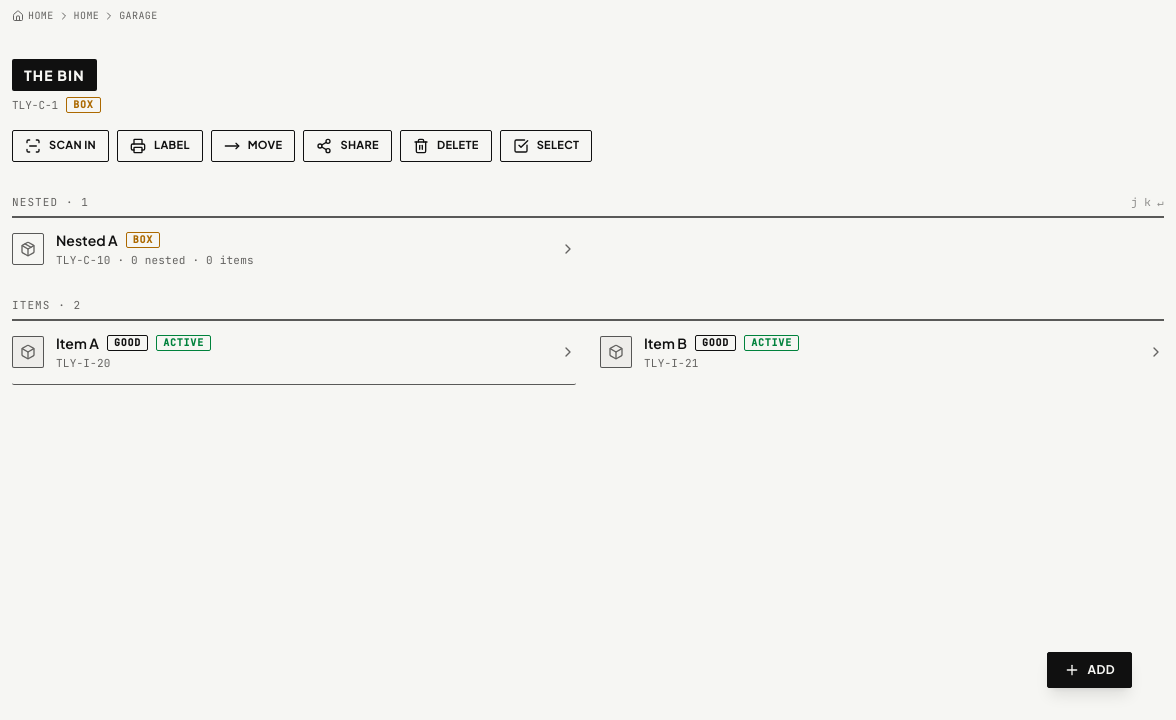
#288: the landing target is a non-interactive tabIndex={-1} container, not Cancel or a row checkbox — either is a real <button> that would swallow the very next
Click the button "Select" at [546, 146], box [500, 130, 592, 162]
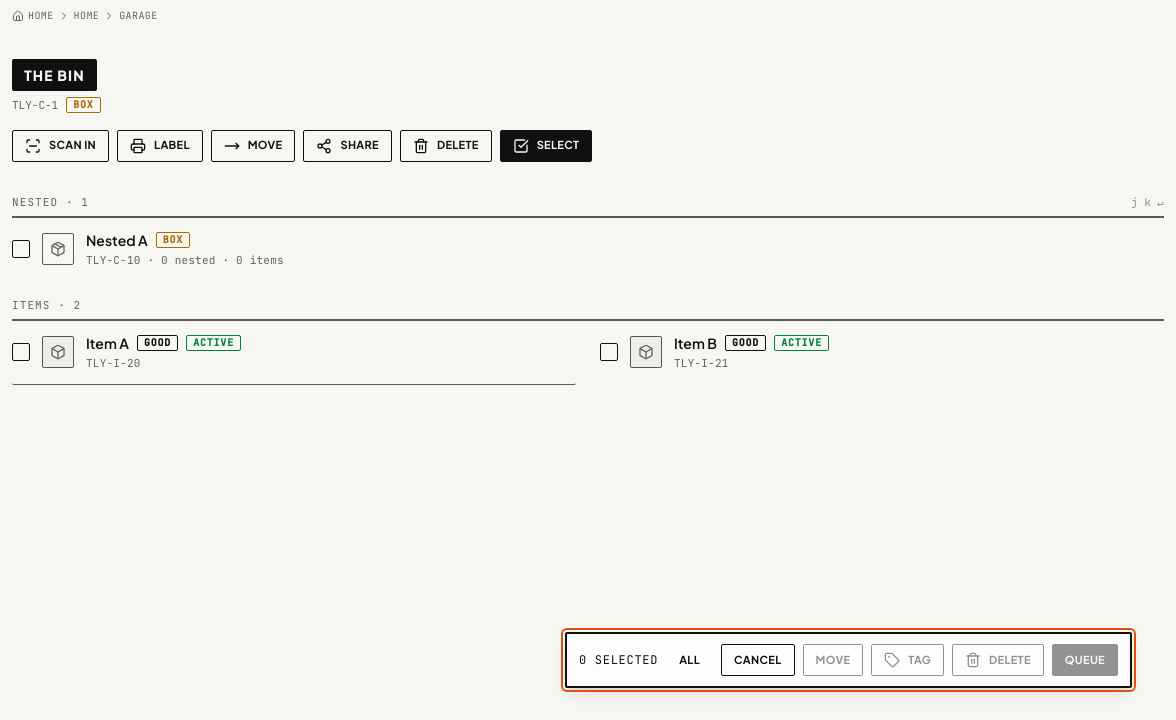
Result: the button "Cancel" is shown at [721, 644, 794, 676]
